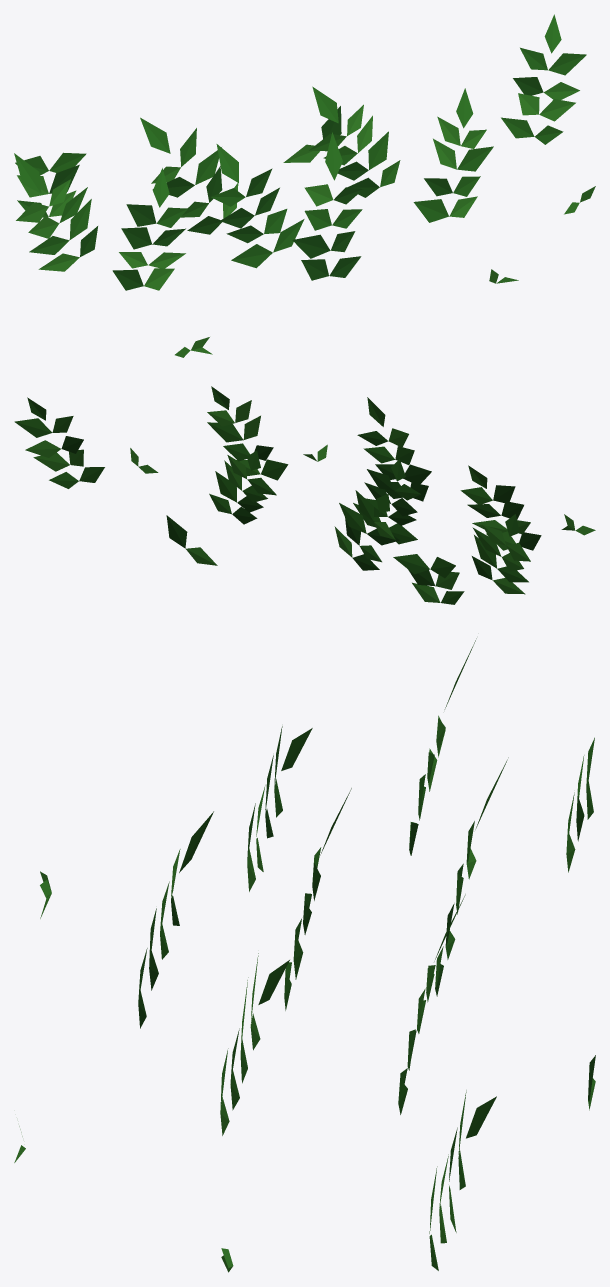
3 views of the same model, one above another, from view 1: azimuth 30°, elevation 25°; view 2: azimuth 150°, elevation 25°; view 3: azimuth 270°, elevation 25° (orthographic). The views are drawn at different scales.
Visible parts, largest first — view 1: r16c3_l10; view 2: r16c3_l10; view 3: r16c3_l10.
Boxes of the visible parts, x1,y1,x2,y2 form: r16c3_l10: (14,14,595,357); r16c3_l10: (14,386,595,604); r16c3_l10: (14,638,595,1272).
Size of the model in its own units: 2.21 by 0.5302 by 1.1.
